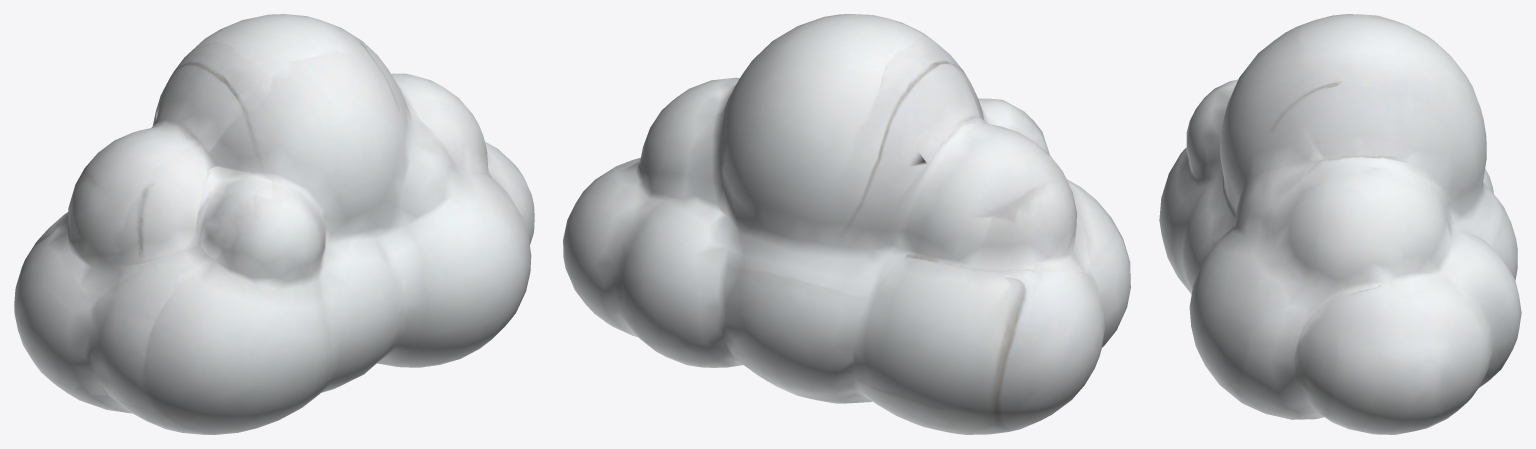
File: testCloudWhite.glb
The picture shows the model from 3 angles, left to right: view 1: azimuth 30°, elevation 25°; view 2: azimuth 150°, elevation 25°; view 3: azimuth 270°, elevation 25°; orthographic projection. The views are drawn at different scales.
Visible parts, largest first — view 1: Mesh_0; view 2: Mesh_0; view 3: Mesh_0.
Part boxes in pixels (x1,y1,x2,y2): Mesh_0: (14, 14, 534, 434); Mesh_0: (563, 14, 1130, 434); Mesh_0: (1159, 14, 1521, 434).
Size of the model in its own units: 1.47 by 1 by 0.9418.
1 material, 1 textured.
